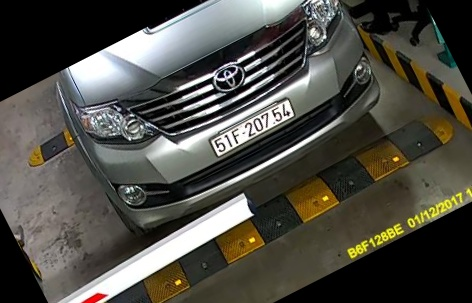plate: (204, 99, 301, 160)
